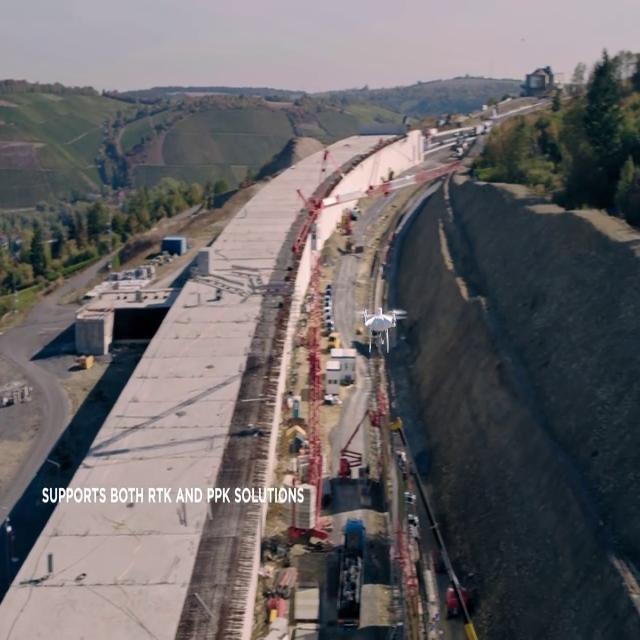drone: (351, 303, 411, 354)
